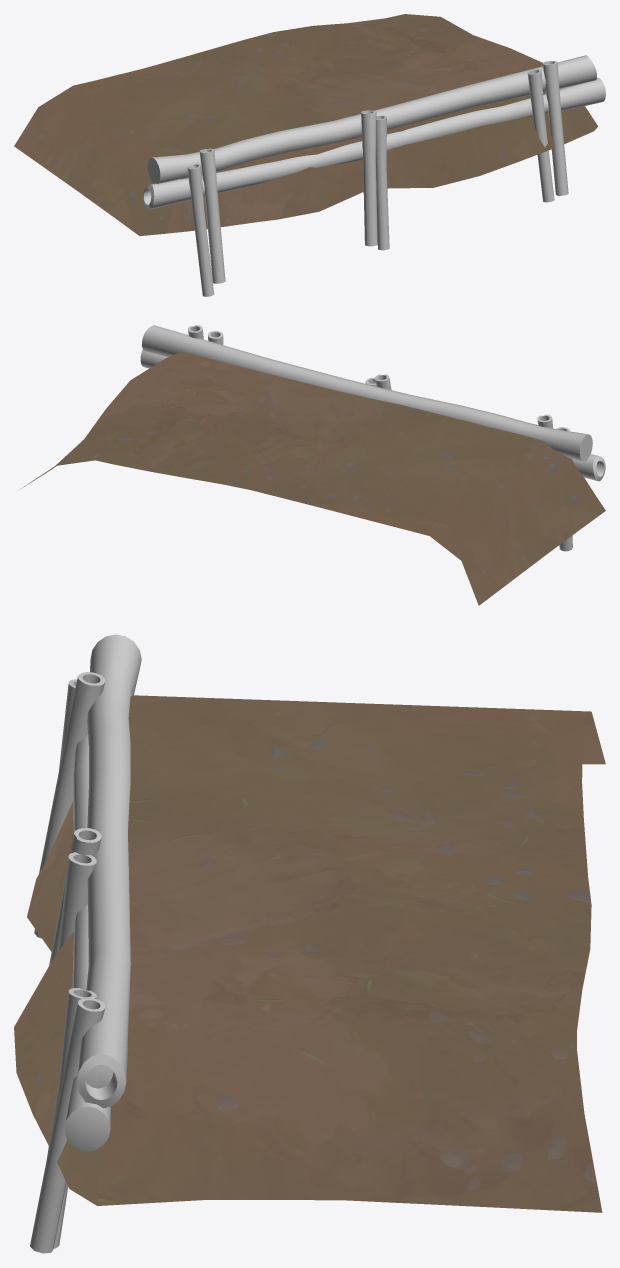
File: SM_EastLands_BambooStep_01.fbx
The picture shows the model from 3 angles, top to bottom: view 1: azimuth 30°, elevation 25°; view 2: azimuth 150°, elevation 25°; view 3: azimuth 270°, elevation 25°; orthographic projection. The views are drawn at different scales.
Visible parts, largest first — view 1: SM_EastLands_BambooStep_01_LOD0; view 2: SM_EastLands_BambooStep_01_LOD0; view 3: SM_EastLands_BambooStep_01_LOD0.
Part boxes in pixels (box(x1,y1,x2,y2)): SM_EastLands_BambooStep_01_LOD0: box(14, 14, 605, 296); SM_EastLands_BambooStep_01_LOD0: box(19, 325, 605, 605); SM_EastLands_BambooStep_01_LOD0: box(14, 634, 605, 1253).
Size of the model in its own units: 401 by 116 by 224.
